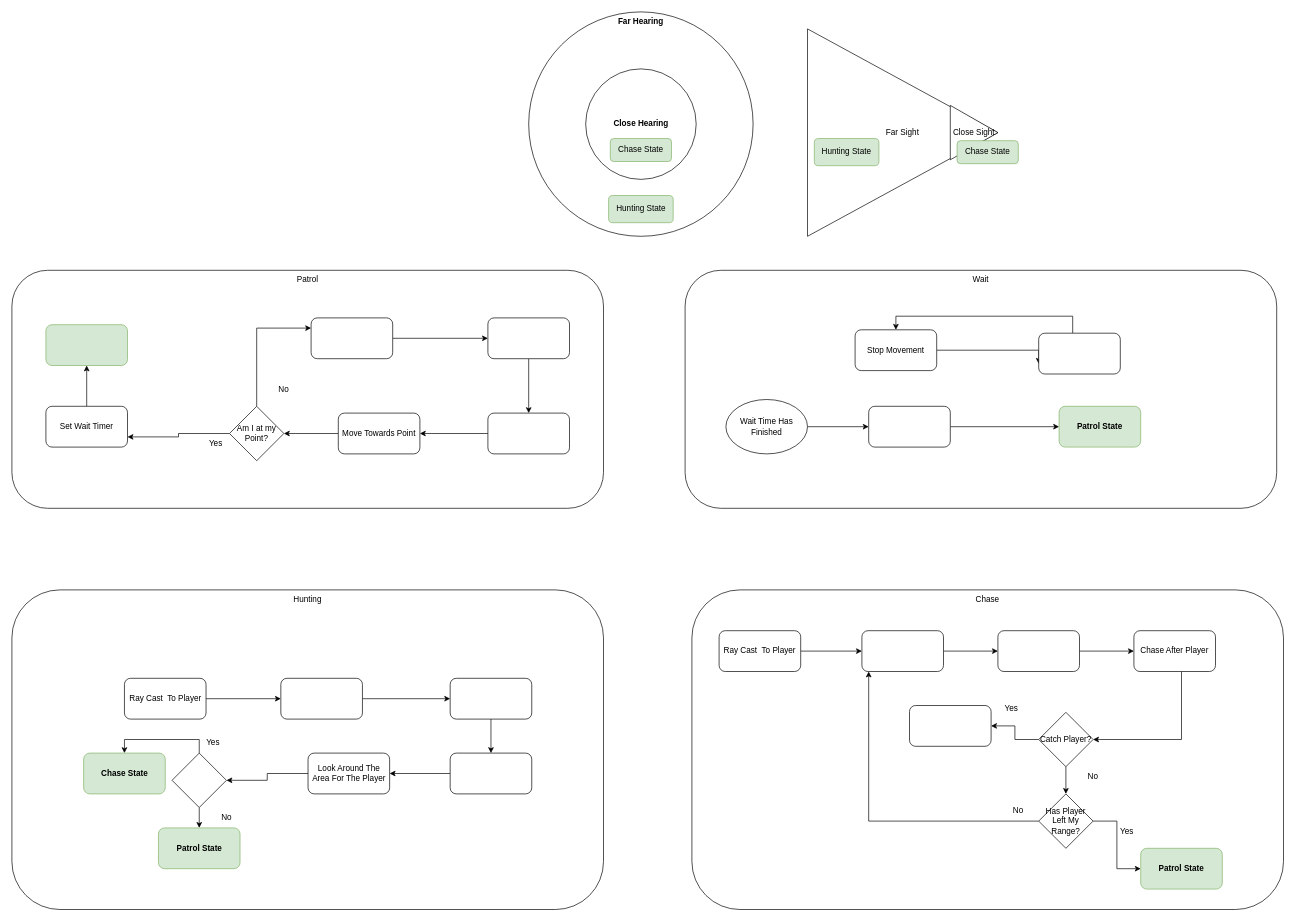
The diagram is 1295 pixels wide and 921 high, and some of its shapes have lost their labels. The centre of each missing label's shape, as x and y in pixels:
"Attack" belongs at [950,725].
"Change Velocity To Sprint" belongs at [1038,651].
"Find Player?" belongs at [198,780].
"Get Direction" belongs at [528,338].
"Get Next waypoint" belongs at [351,338].
"Get Within A Distance" belongs at [490,698].
"Look Around" belongs at [1079,353].
"Look Around For The Player" belongs at [490,773].
"Move Towards The Player" belongs at [321,698].
"Set Destination to Player" belongs at [902,651].
"Set Next Wait Point" belongs at [909,426].
"Set Velocity" belongs at [528,433].
"Wait State" belongs at [86,345].
